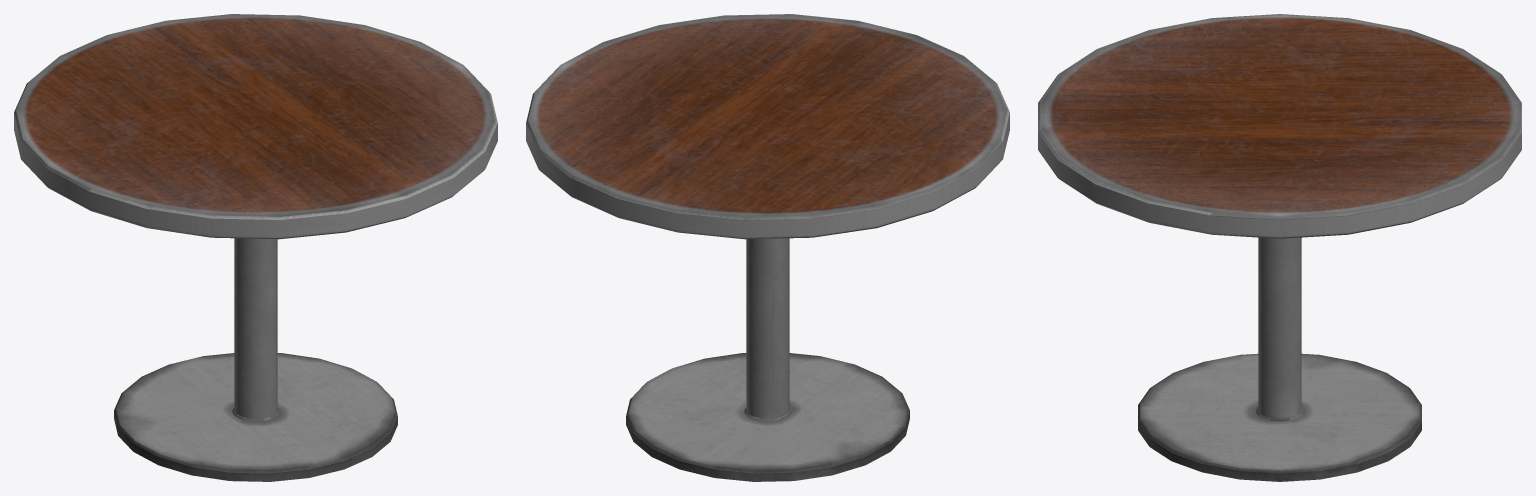
The model's file is Side Table 1.FBX.
3 views of the same model, side by side, from view 1: azimuth 30°, elevation 25°; view 2: azimuth 150°, elevation 25°; view 3: azimuth 270°, elevation 25° (orthographic).
Parts seen in each view (by area): view 1: Cylinder004; view 2: Cylinder004; view 3: Cylinder004.
Part boxes in pixels (x1,y1,x2,y2): Cylinder004: [14, 14, 497, 481]; Cylinder004: [526, 14, 1009, 481]; Cylinder004: [1038, 14, 1521, 481].
Bounding box in the file's own units: 99.36 × 69.53 × 99.44.
